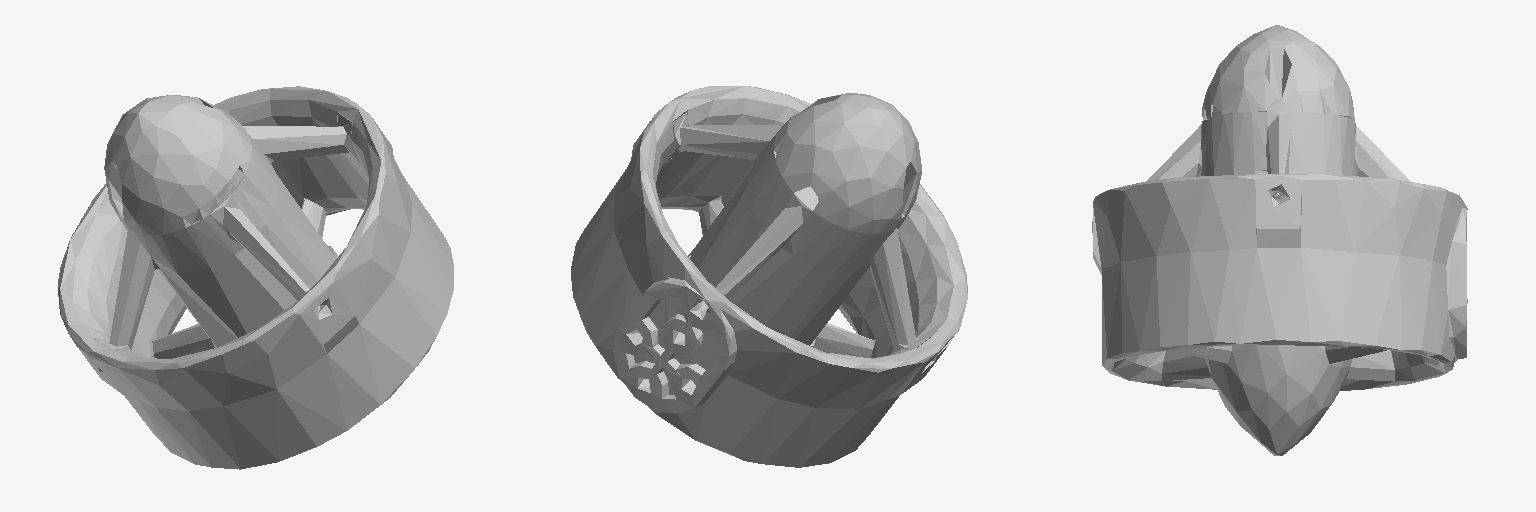
File: duct_right_rear.obj
3 views of the same model, side by side, from view 1: azimuth 30°, elevation 25°; view 2: azimuth 150°, elevation 25°; view 3: azimuth 270°, elevation 25° (orthographic).
Visible parts, largest first — view 1: duct_right_rear; view 2: duct_right_rear; view 3: duct_right_rear.
Part boxes in pixels (x1,y1,x2,y2): duct_right_rear: (58, 86, 453, 469); duct_right_rear: (571, 86, 967, 467); duct_right_rear: (1092, 25, 1467, 455).
Size of the model in its own units: 0.1021 by 0.101 by 0.0973.